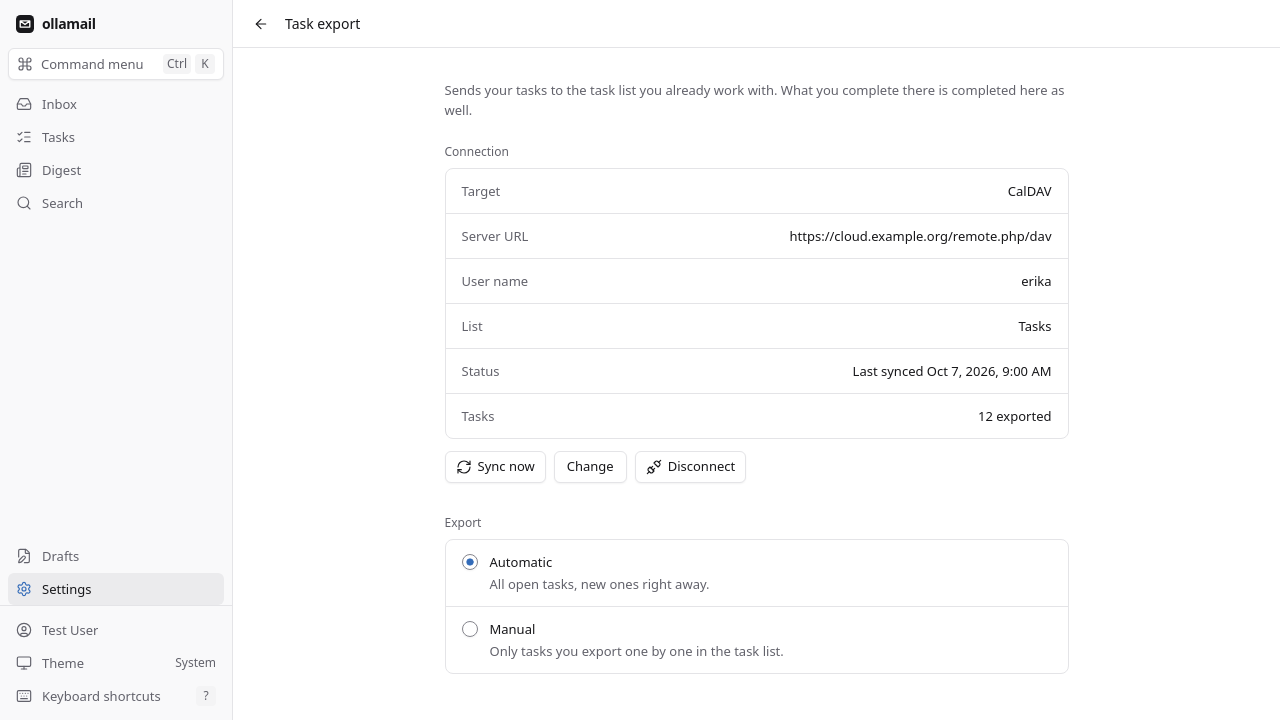
Scenario: task export settings › keeps the stored password when only the list changes
Expected: the heading "Task export" is shown, [285,14,360,34]
Click the button "Change": click(590, 467) [554,451,627,483]
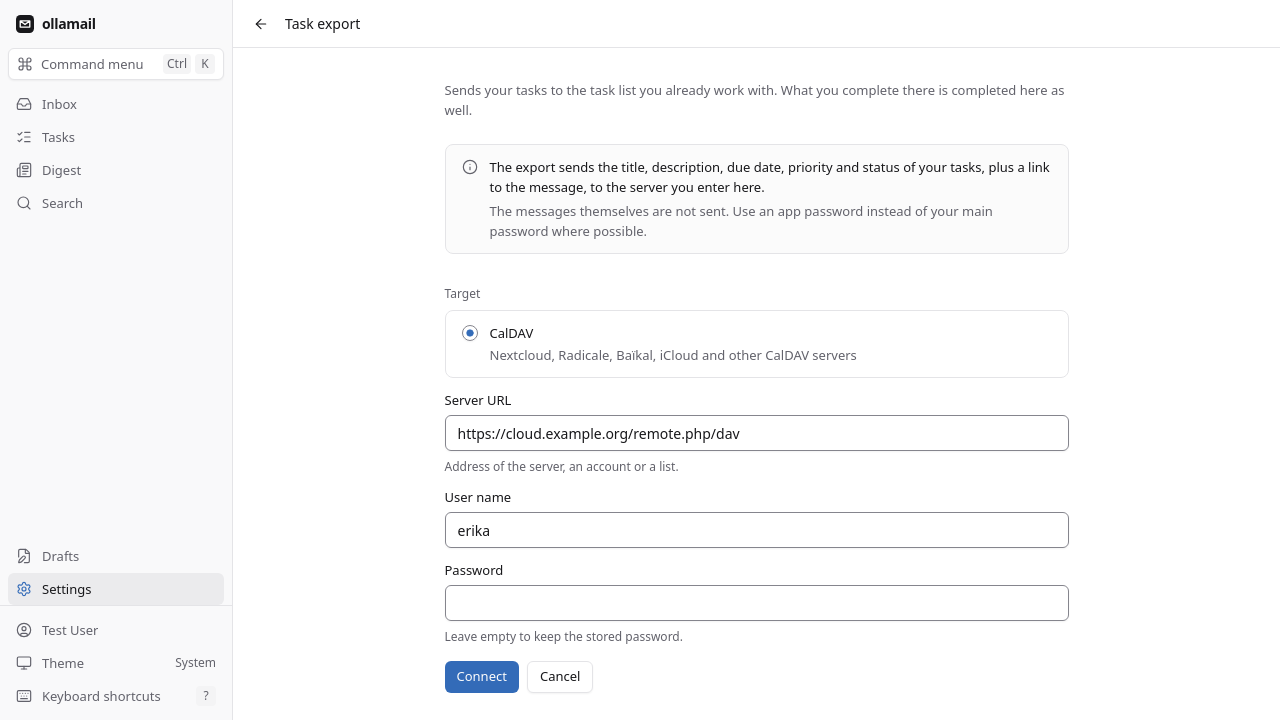
Expected: the text "Leave empty to keep the stored password." is shown, [444,628,683,645]
Click the button "Connect": click(482, 677) [444,661,519,693]
(page scrolled)
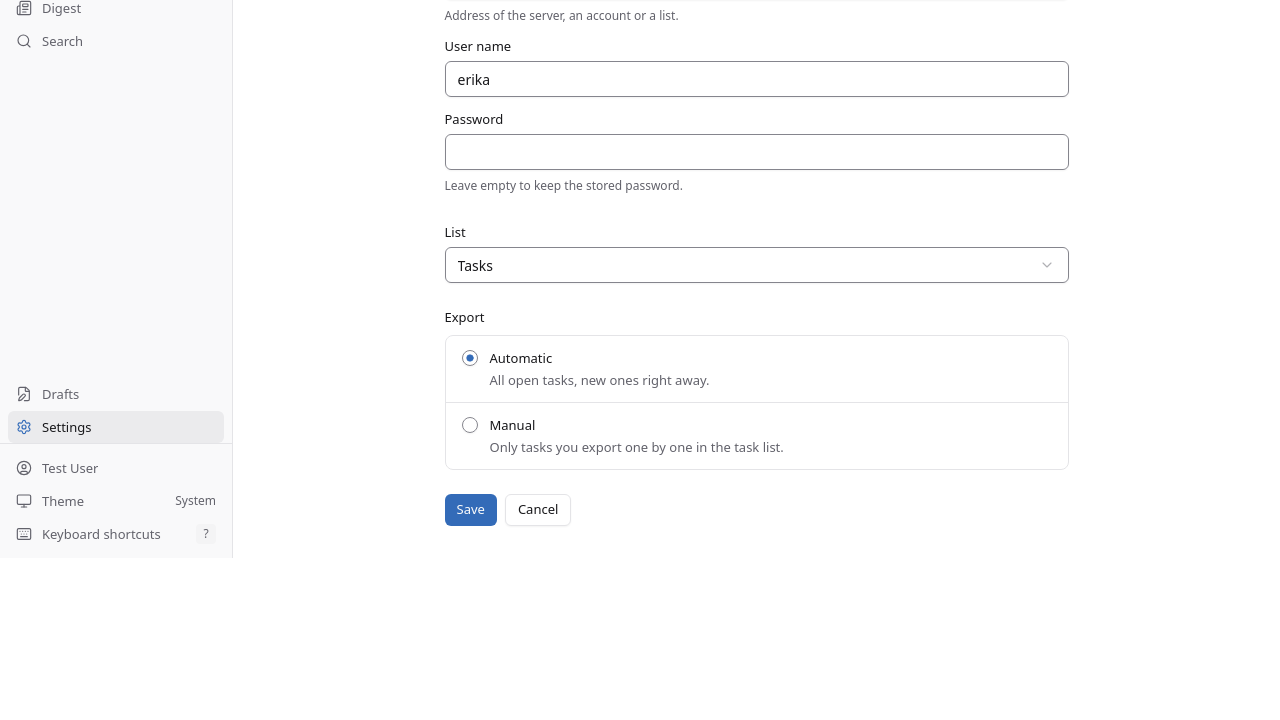
Click the button "Save": click(471, 510) [444,494,497,526]
(page scrolled)
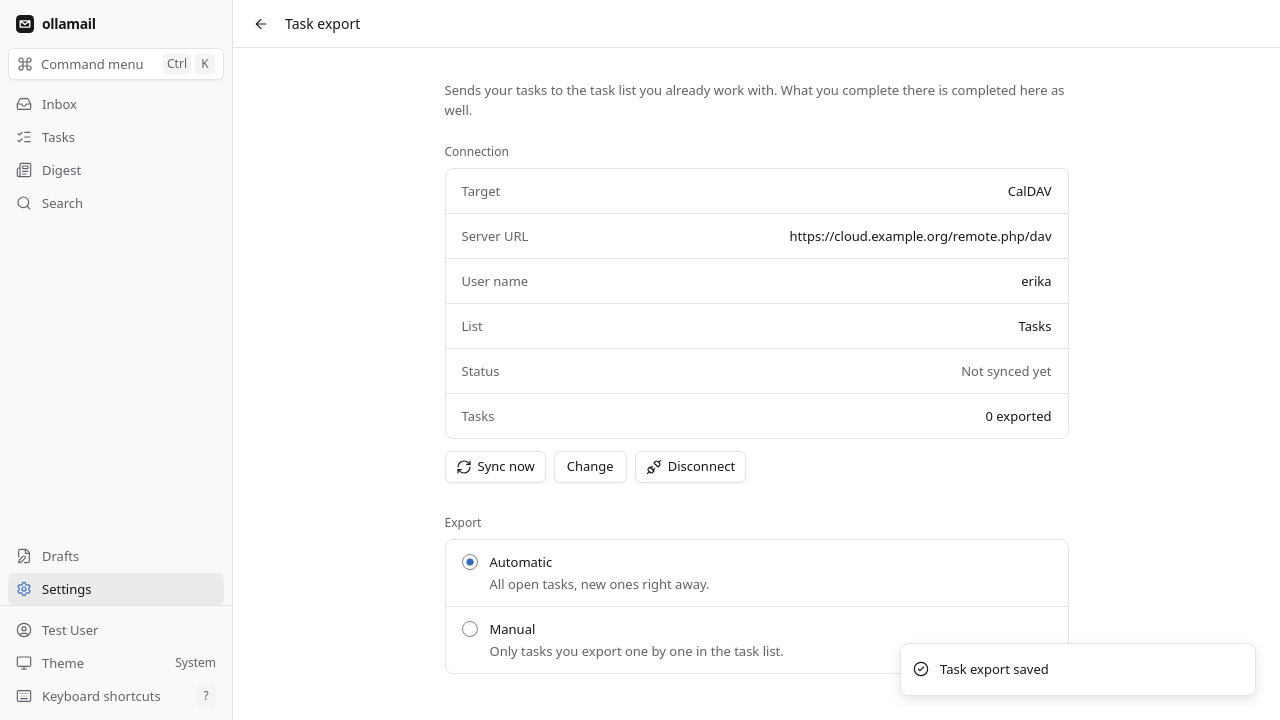
Expected: the element "Connection" is shown, [444,144,1068,483]
